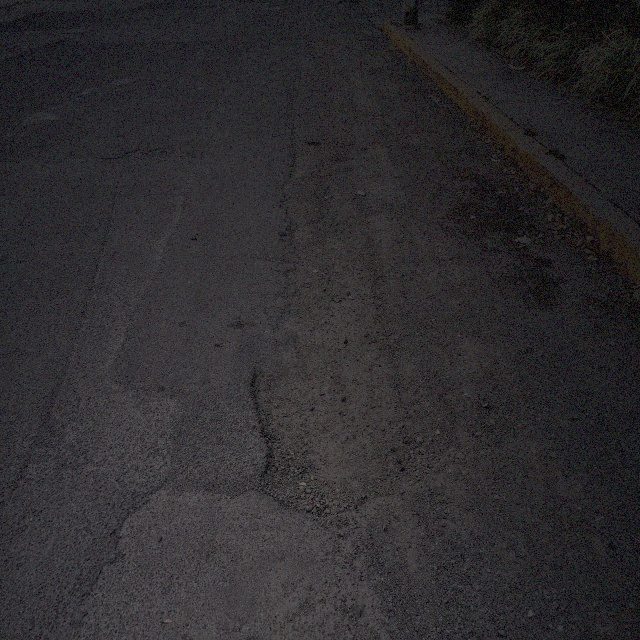pothole: (250, 217, 430, 538)
